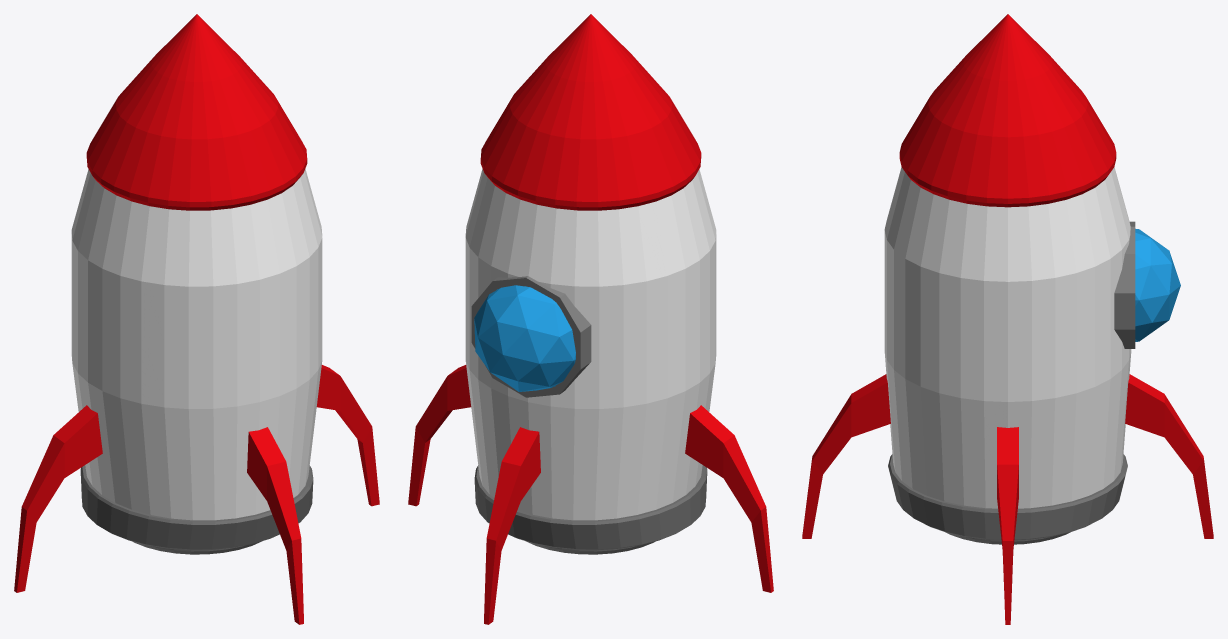
File: stylized_low_poly_rocket_3d_model.glb
3 renders of one model, left to right at view 1: azimuth 30°, elevation 25°; view 2: azimuth 150°, elevation 25°; view 3: azimuth 270°, elevation 25°, orthographic.
Visible parts, largest first — view 1: Circle; view 2: Circle; view 3: Circle.
Boxes of the visible parts, x1,y1,x2,y2 form: Circle: (14, 14, 379, 624); Circle: (408, 14, 773, 624); Circle: (802, 14, 1213, 624).
Bounding box in the file's own units: 3.66 × 5.13 × 3.66.
